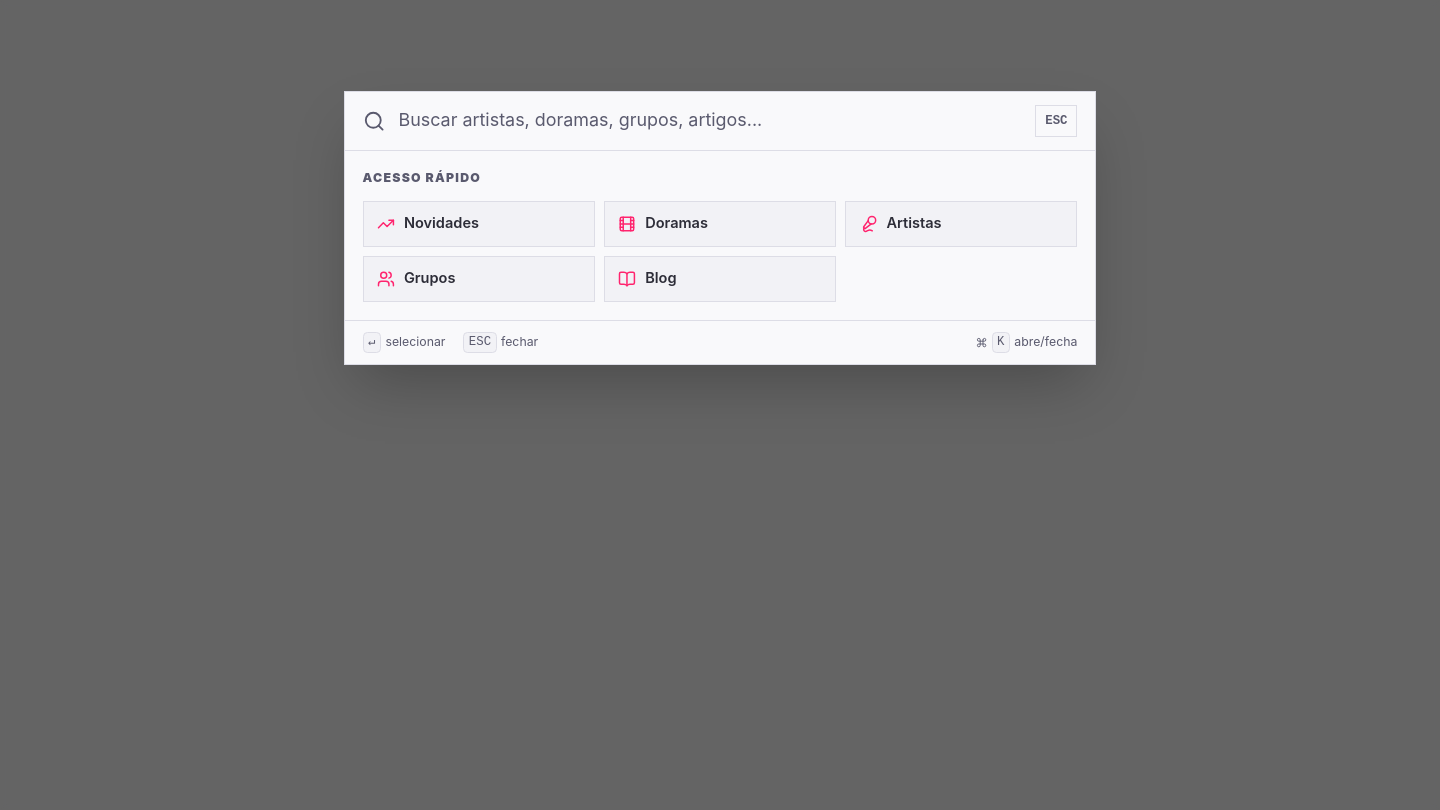
Test: QuickSearch › falha da API mostra aviso, não "nenhum resultado"
Type "riize" into the dropdown.
click(710, 121); type("riize")  # box 398,107 -> 1022,134
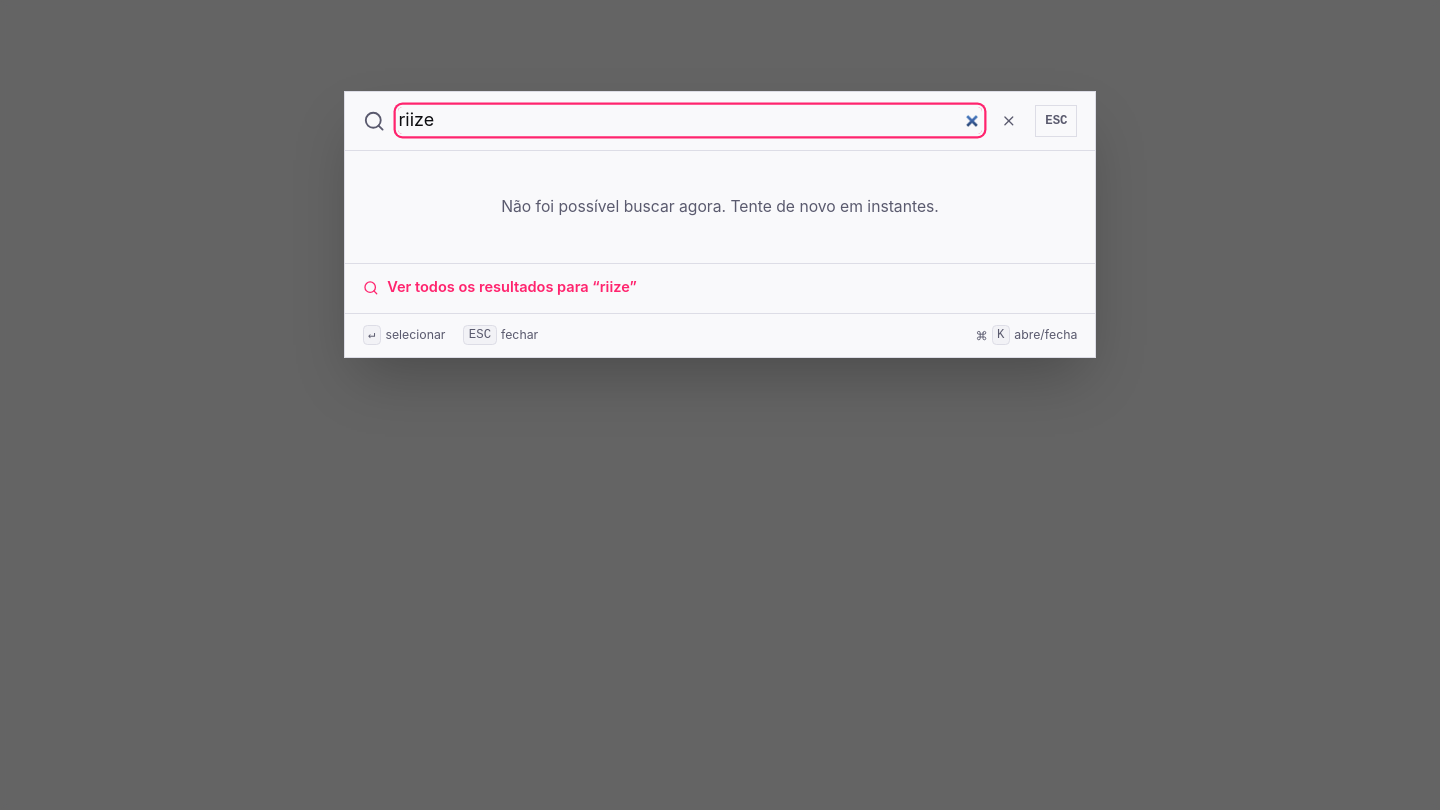
Check: the message shows "Não foi possível buscar", box 501,197 -> 939,216
